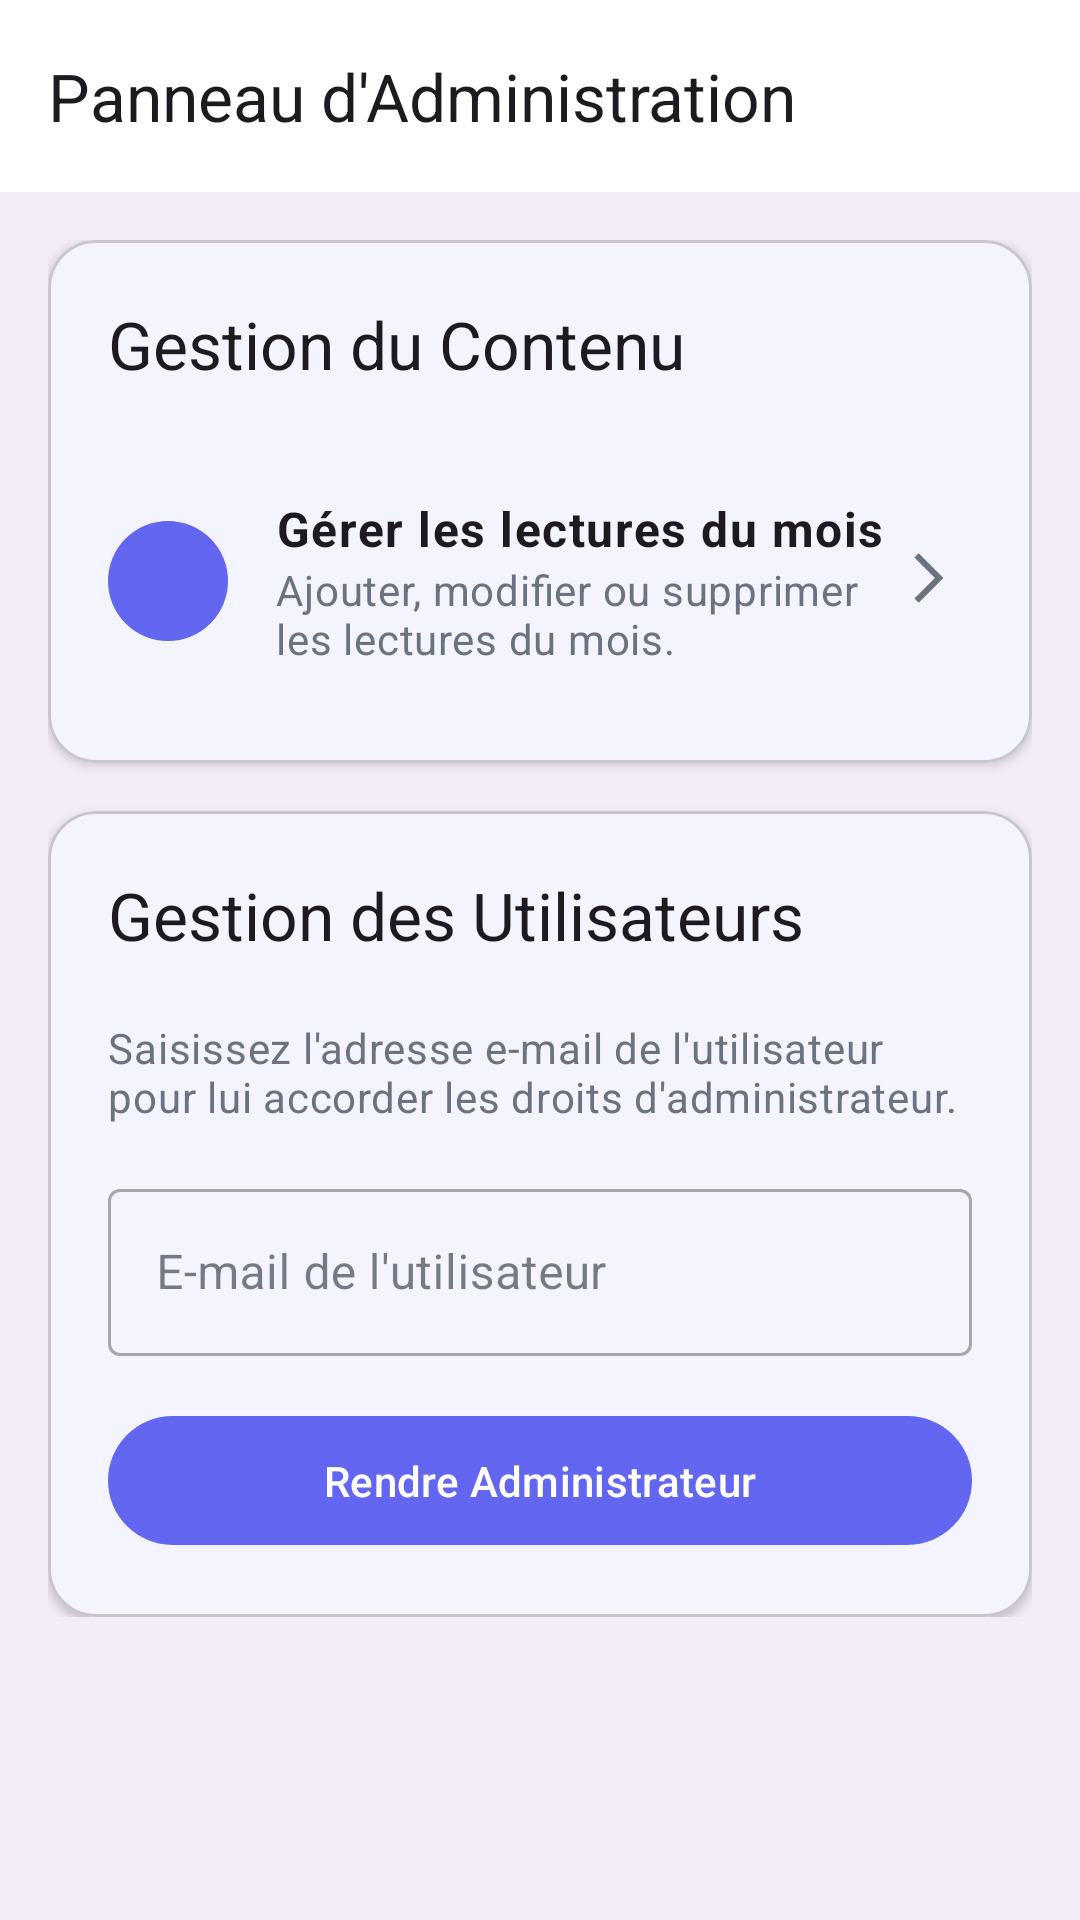

Point at icon controls on the screen. Image size 1080px x 1920px, points as (x=x, y=y).
arrow forward: (x=928, y=578)
